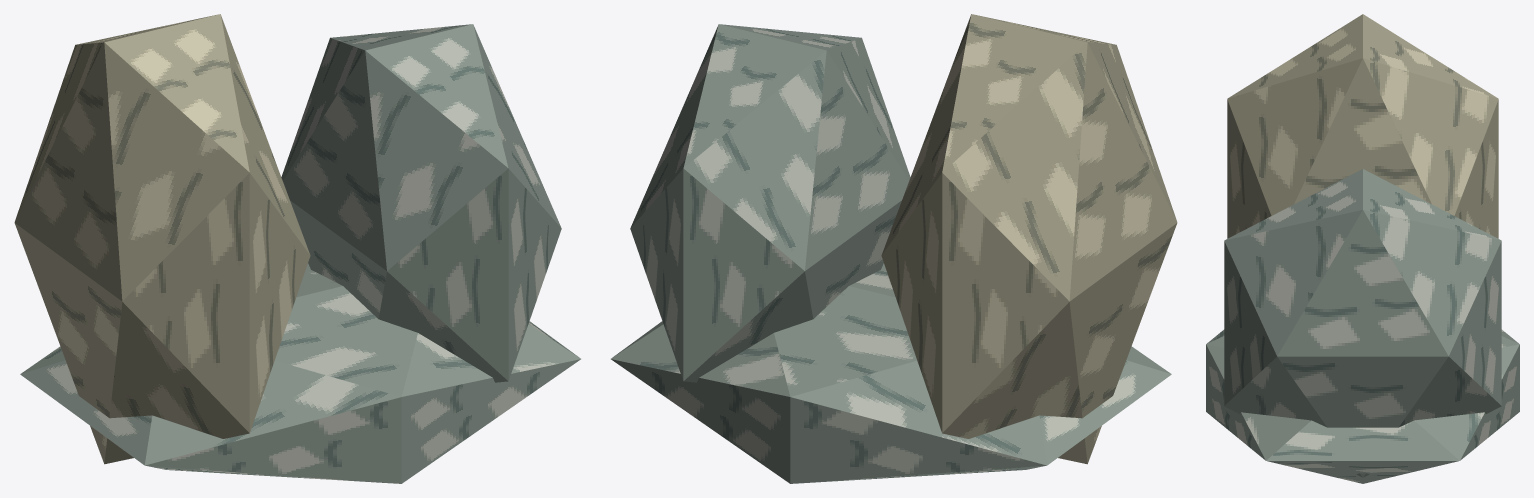
The model's file is pedra-fendida-v01.gltf.
3 views of the same model, side by side, from view 1: azimuth 30°, elevation 25°; view 2: azimuth 150°, elevation 25°; view 3: azimuth 270°, elevation 25° (orthographic). The views are drawn at different scales.
Parts seen in each view (by area): view 1: forma; view 2: forma; view 3: forma.
Part boxes in pixels (<box>): forma: <box>14,14,580,483</box>; forma: <box>611,14,1177,483</box>; forma: <box>1206,14,1519,483</box>.
Bounding box in the file's own units: 1.14 × 1.07 × 0.8847.
1 material, 1 textured.
